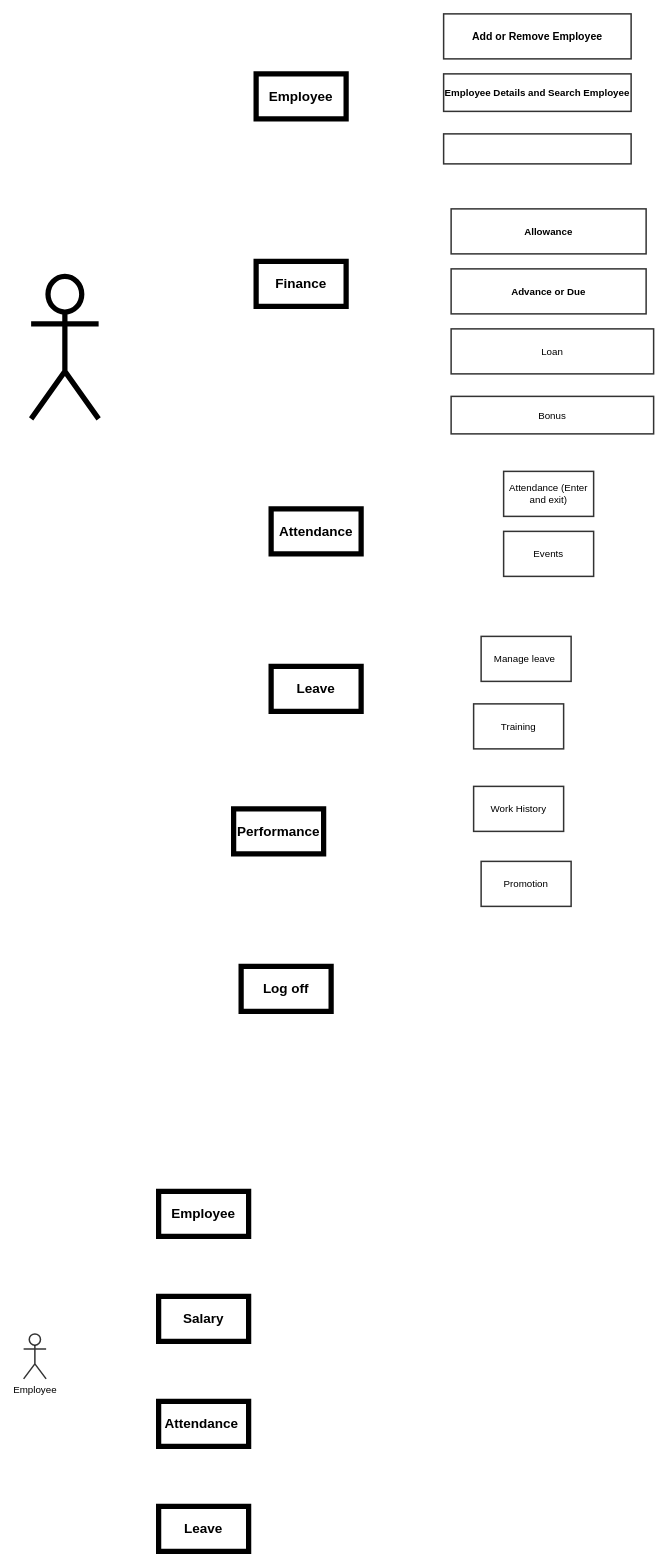
Some shapes in this 667 by 1567 pixel diagram are drawn without their labels. The centre of each missing label's shape, as x and y in pixels:
Administrator: (x=64, y=347)
Update Employee: (x=537, y=148)
